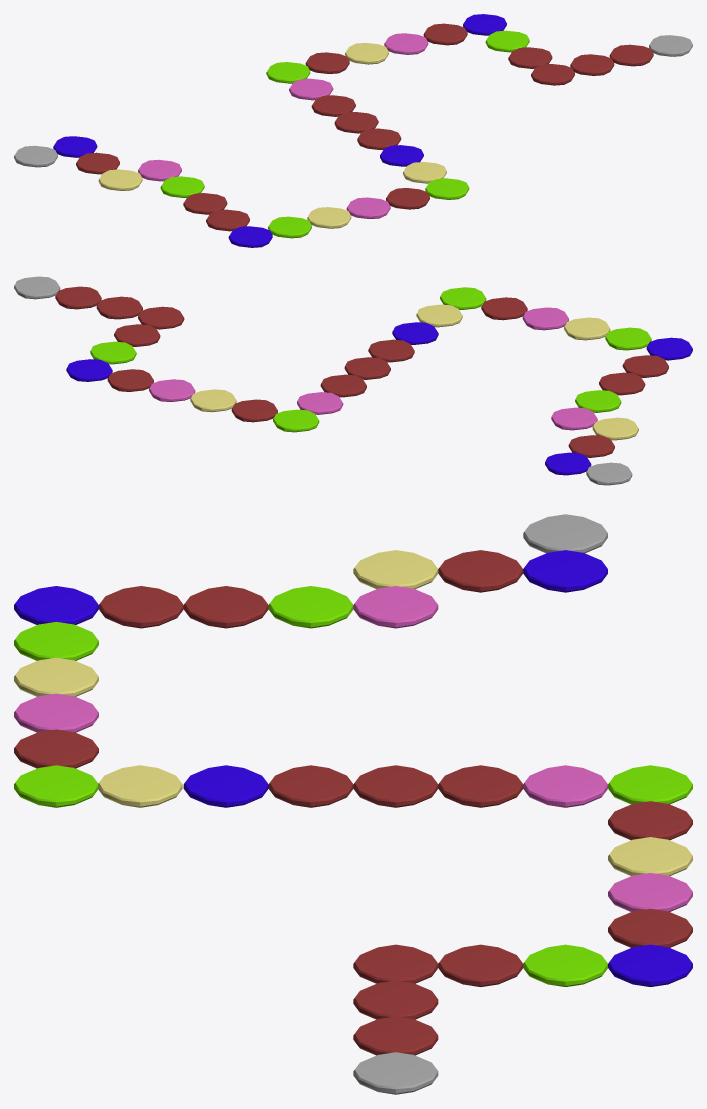
Rendered from SM_Level01_Path.fbx.
3 views of the same model, one above another, from view 1: azimuth 30°, elevation 25°; view 2: azimuth 150°, elevation 25°; view 3: azimuth 270°, elevation 25° (orthographic). The views are drawn at different scales.
Visible parts, largest first — view 1: pCube6; view 2: pCube6; view 3: pCube6.
Part boxes in pixels (x1=…): pCube6: x1=14, y1=14, x2=692, y2=247; pCube6: x1=14, y1=276, x2=692, y2=485; pCube6: x1=14, y1=514, x2=692, y2=1094.
Size of the model in its own units: 1600 by 10 by 800.
